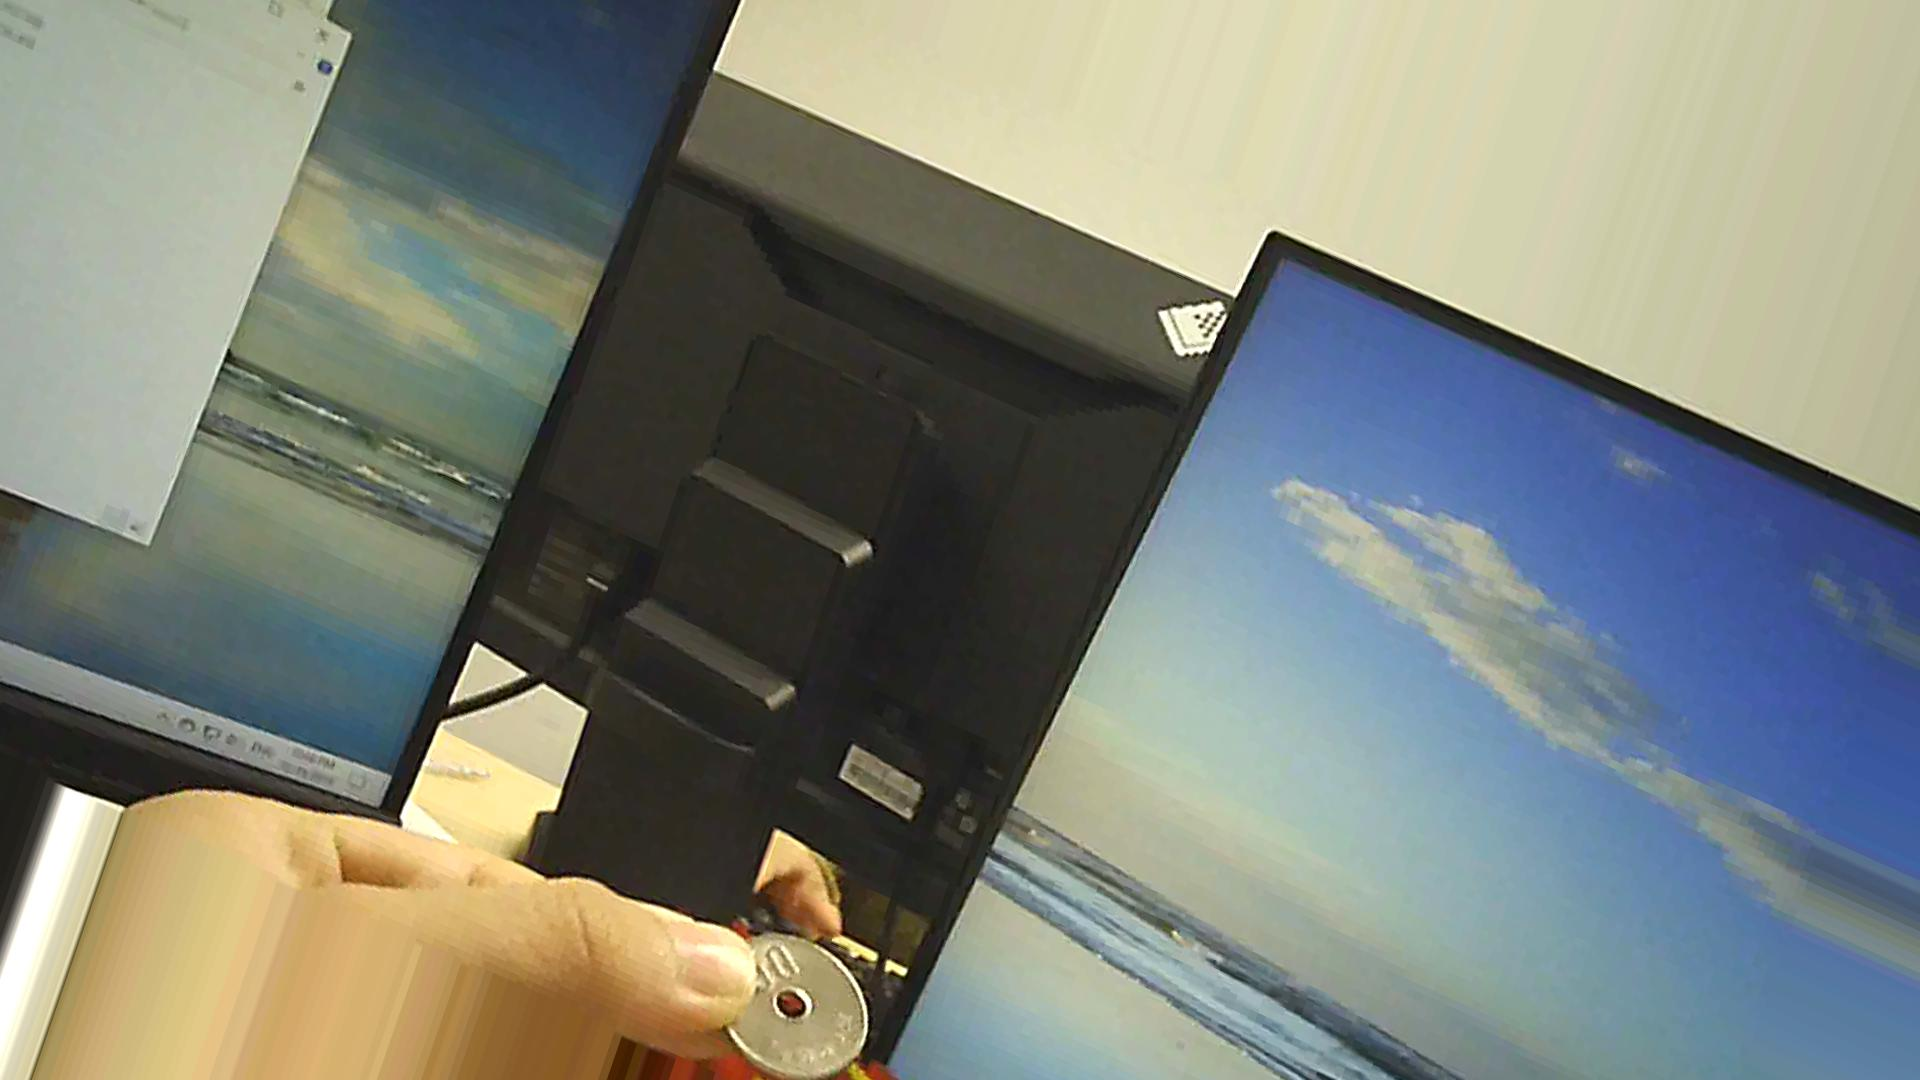50 Yen: (709, 919, 868, 1079)
